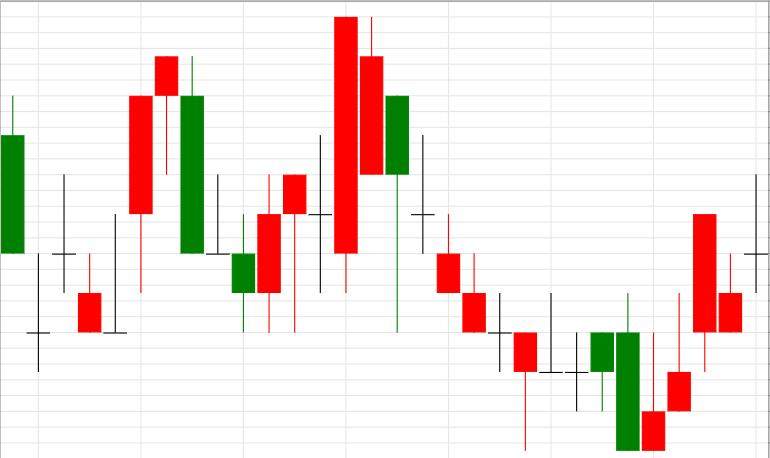hammer_rise: (386, 96, 537, 451)
hanging_man_fall: (26, 57, 178, 372)
